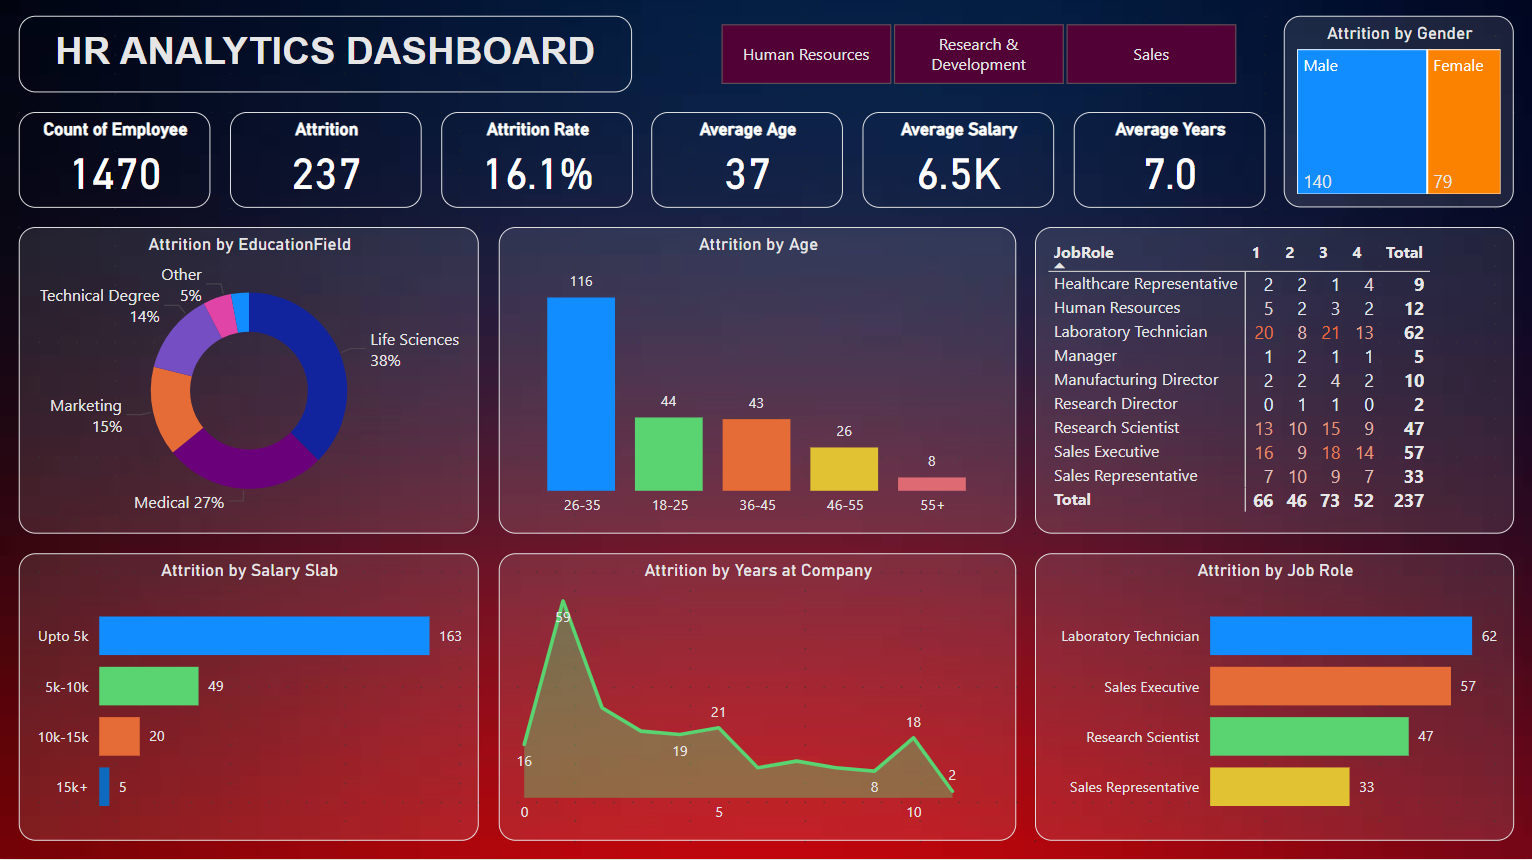

The dashboard page shown, as its layout file describes it:
{"tool":"powerbi","page":{"name":"Page 1","canvas":[1280,720],"ordinal":0},"visuals":[{"type":"card","title":"Count of Employee","fields":{"Values":["CountNonNull(HR_Analytics.EmpID)"]},"box":[16,96,160,80],"z":0},{"type":"card","title":"Attrition ","fields":{"Values":["Sum(HR_Analytics.AttritionColumn)"]},"box":[192,96,160,80],"z":1000},{"type":"card","title":"Attrition Rate","fields":{"Values":["HR_Analytics.AttritionRate"]},"box":[368,96,160,80],"z":2000},{"type":"card","title":"Average Age","fields":{"Values":["Avg(HR_Analytics.Age)"]},"box":[544,96,160,80],"z":3000},{"type":"card","title":"Average Salary","fields":{"Values":["Avg(HR_Analytics.MonthlyIncome)"]},"box":[720,96,160,80],"z":4000},{"type":"card","title":"Average Years","fields":{"Values":["Avg(HR_Analytics.YearsAtCompany)"]},"box":[896,96,160,80],"z":5000},{"type":"donutChart","title":"Attrition by EducationField","fields":{"Category":["HR_Analytics.EducationField"],"Y":["Sum(HR_Analytics.AttritionCount)"]},"box":[16,192,384,256],"z":6000},{"type":"columnChart","title":"Attrition by Age","fields":{"Category":["HR_Analytics.AgeGroup"],"Y":["Sum(HR_Analytics.AttritionCount)"]},"box":[416,192,432,256],"z":7000},{"type":"pivotTable","fields":{"Rows":["HR_Analytics.JobRole"],"Columns":["HR_Analytics.JobSatisfaction"],"Values":["Sum(HR_Analytics.AttritionCount)"]},"box":[864,192,400,256],"z":8000},{"type":"clusteredBarChart","title":"Attrition by Salary Slab","fields":{"Category":["HR_Analytics.SalarySlab"],"Y":["Sum(HR_Analytics.AttritionCount)"]},"box":[16,464,384,240],"z":9000},{"type":"clusteredBarChart","title":"Attrition by Job Role","fields":{"Category":["HR_Analytics.JobRole"],"Y":["Sum(HR_Analytics.AttritionCount)"]},"box":[864,464,400,240],"z":10000},{"type":"areaChart","title":"Attrition by Years at Company","fields":{"Category":["HR_Analytics.YearsAtCompany"],"Y":["Sum(HR_Analytics.AttritionCount)"]},"box":[416,464,432,240],"z":11000},{"type":"treemap","title":"Attrition by Gender","fields":{"Group":["HR_Analytics.Gender"],"Values":["Sum(HR_Analytics.AttritionCount)"]},"box":[1072,16,192,160],"z":12000},{"type":"slicer","fields":{"Values":["HR_Analytics.Department"]},"box":[576,16,480,64],"z":13000},{"type":"textbox","box":[16,16,512,64],"z":14000}]}

Visuals, with their boxes in screenshot pixels (x1, y1, x2, y2), scaled from the page's 1280x720 canvas onto the 1532x860 screenshot:
"Count of Employee" card: box(19, 115, 211, 210)
"Attrition " card: box(230, 115, 421, 210)
"Attrition Rate" card: box(440, 115, 632, 210)
"Average Age" card: box(651, 115, 843, 210)
"Average Salary" card: box(862, 115, 1053, 210)
"Average Years" card: box(1072, 115, 1264, 210)
"Attrition by EducationField" donutChart: box(19, 229, 479, 535)
"Attrition by Age" columnChart: box(498, 229, 1015, 535)
pivotTable - HR_Analytics.JobRole x HR_Analytics.JobSatisfaction: box(1034, 229, 1513, 535)
"Attrition by Salary Slab" clusteredBarChart: box(19, 554, 479, 841)
"Attrition by Job Role" clusteredBarChart: box(1034, 554, 1513, 841)
"Attrition by Years at Company" areaChart: box(498, 554, 1015, 841)
"Attrition by Gender" treemap: box(1283, 19, 1513, 210)
slicer - HR_Analytics.Department: box(689, 19, 1264, 96)
textbox: box(19, 19, 632, 96)
